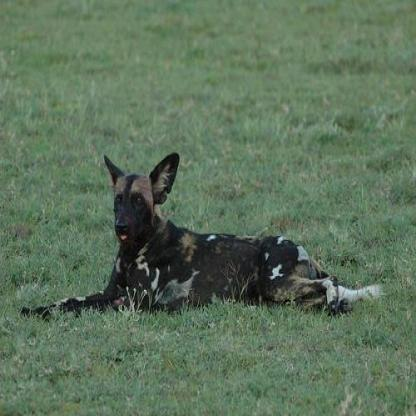African_hunting_dog: (17, 146, 387, 324)
